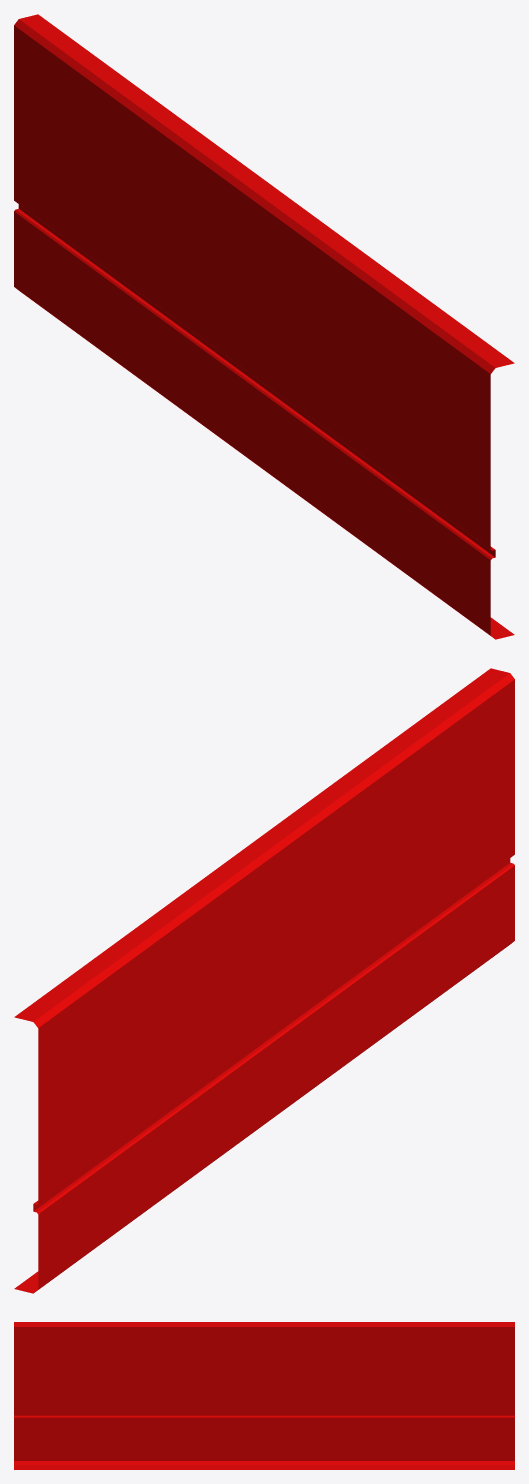
The model's file is Bottom_wall_1.fbx.
The picture shows the model from 3 angles, top to bottom: view 1: azimuth 30°, elevation 25°; view 2: azimuth 150°, elevation 25°; view 3: azimuth 270°, elevation 25°; orthographic projection. The views are drawn at different scales.
Visible parts, largest first — view 1: L16:polySurface1; view 2: L16:polySurface1; view 3: L16:polySurface1.
Boxes of the visible parts, x1=… form: L16:polySurface1: x1=14, y1=14, x2=514, y2=639; L16:polySurface1: x1=14, y1=668, x2=514, y2=1293; L16:polySurface1: x1=14, y1=1322, x2=514, y2=1469.
Bounding box in the file's own units: 9.95 × 107 × 340.
